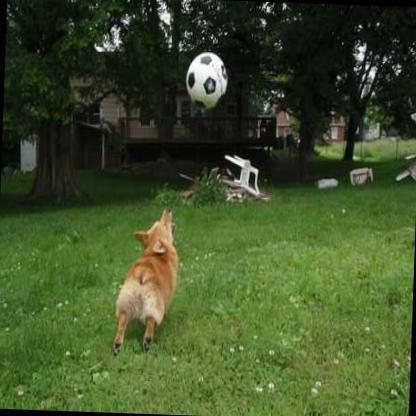ball: (186, 50, 229, 106)
